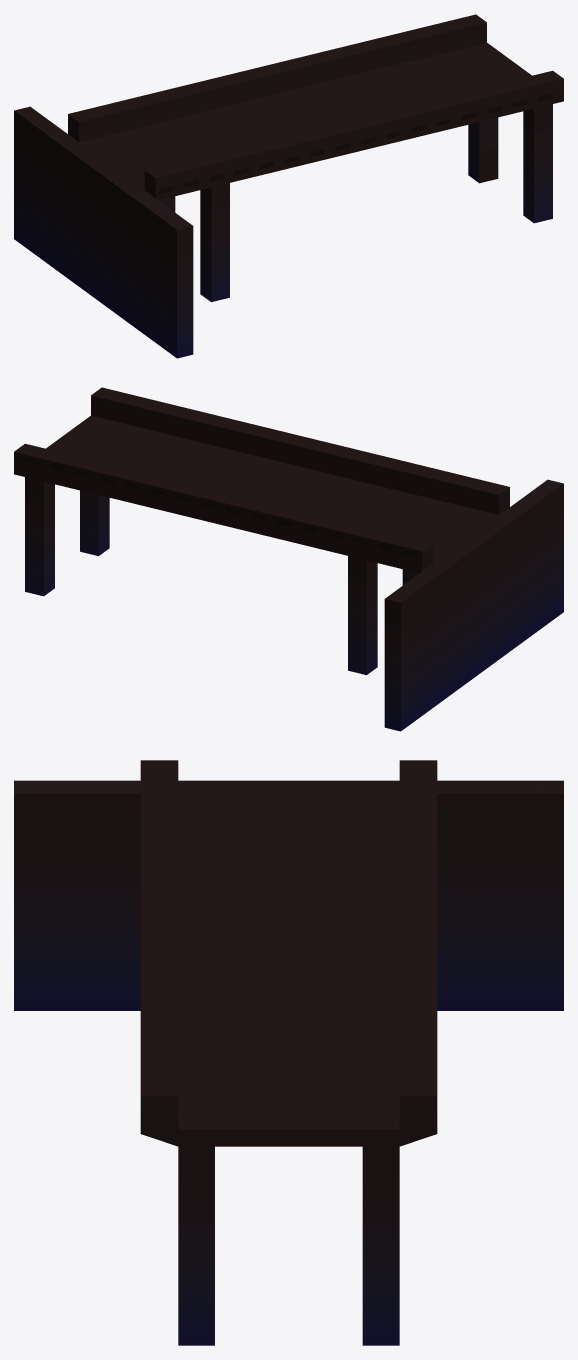
File: Overpass.fbx
3 views of the same model, one above another, from view 1: azimuth 30°, elevation 25°; view 2: azimuth 150°, elevation 25°; view 3: azimuth 270°, elevation 25° (orthographic). The views are drawn at different scales.
Parts seen in each view (by area): view 1: Cube; view 2: Cube; view 3: Cube.
Boxes of the visible parts, x1,y1,x2,y2 form: Cube: (14, 14, 563, 358); Cube: (14, 387, 563, 731); Cube: (14, 760, 563, 1345).
Bounding box in the file's own units: 8945 × 2994 × 5955.
